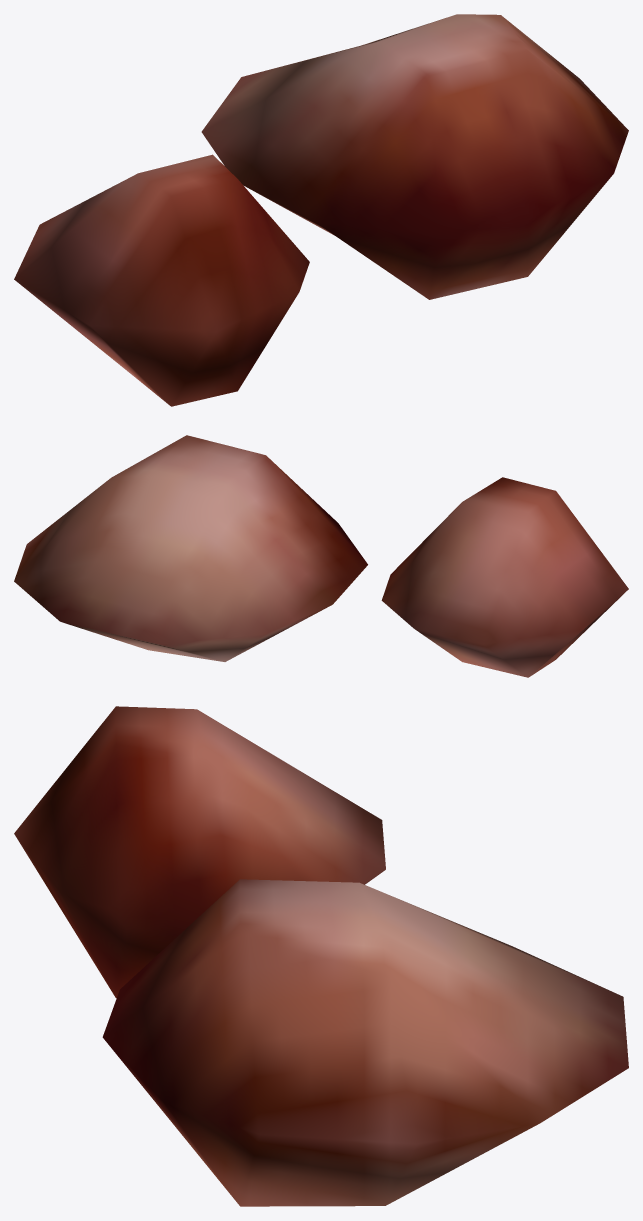
Rendered from brain_chunk_07.dae.
The picture shows the model from 3 angles, top to bottom: view 1: azimuth 30°, elevation 25°; view 2: azimuth 150°, elevation 25°; view 3: azimuth 270°, elevation 25°; orthographic projection. The views are drawn at different scales.
Parts seen in each view (by area): view 1: chunk_07; view 2: chunk_07; view 3: chunk_07.
Boxes of the visible parts, x1,y1,x2,y2 form: chunk_07: (14,14,628,406); chunk_07: (14,435,628,677); chunk_07: (14,706,628,1206).
Bounding box in the file's own units: 0.0678 × 0.0233 × 0.0479.
